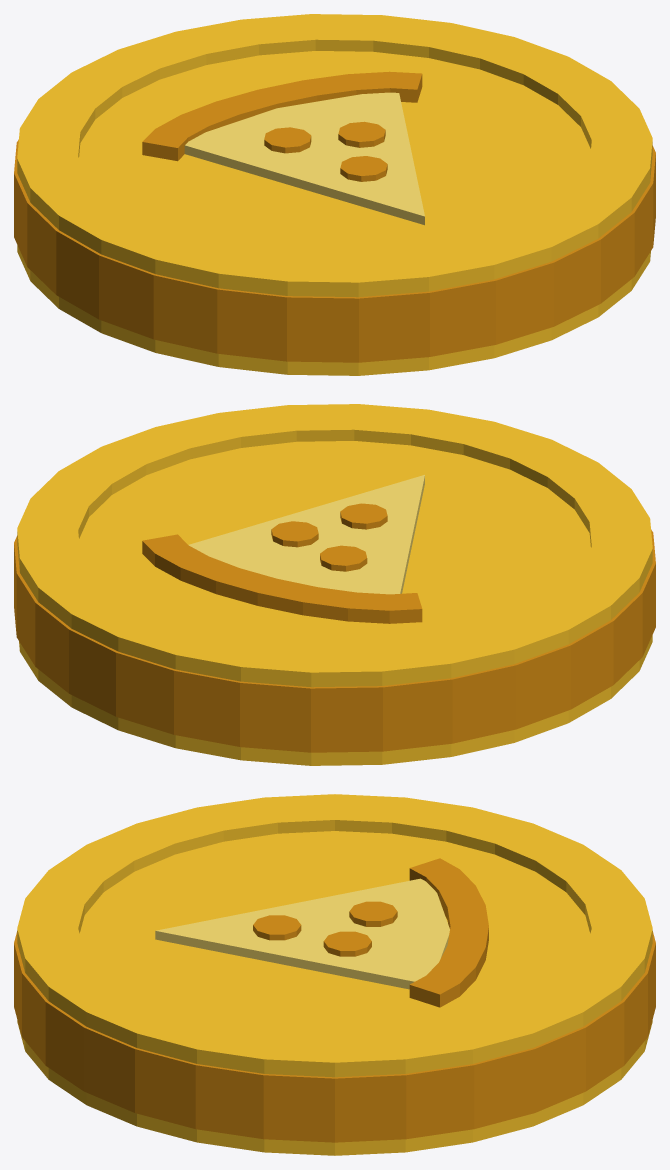
The model's file is Coin.fbx.
3 views of the same model, one above another, from view 1: azimuth 30°, elevation 25°; view 2: azimuth 150°, elevation 25°; view 3: azimuth 270°, elevation 25° (orthographic).
Parts seen in each view (by area): view 1: CoinGold, CoinRim, CoinEmboss; view 2: CoinGold, CoinRim, CoinEmboss; view 3: CoinGold, CoinRim, CoinEmboss.
Part boxes in pixels (x1,y1,x2,y2): CoinGold: (17,14,652,375); CoinRim: (14,71,655,362); CoinEmboss: (184,92,424,225); CoinGold: (17,404,652,765); CoinRim: (14,503,655,752); CoinEmboss: (188,475,424,594); CoinGold: (17,794,652,1155); CoinRim: (14,858,655,1142); CoinEmboss: (155,878,449,989).
Bounding box in the file's own units: 2 × 0.344 × 2.
